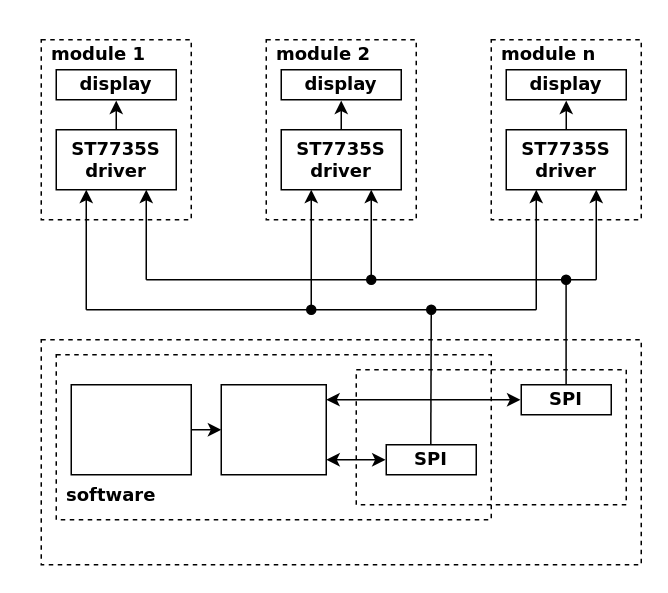
The diagram is 668 pixels wide and 593 high, and some of its shapes have lost their labels. Each missing label, with the box of its shape:
GPIO: (355, 368, 626, 505)
GPIO libraries: (220, 383, 326, 475)
hardware: (40, 338, 641, 565)
ST7735S library: (70, 383, 191, 475)
